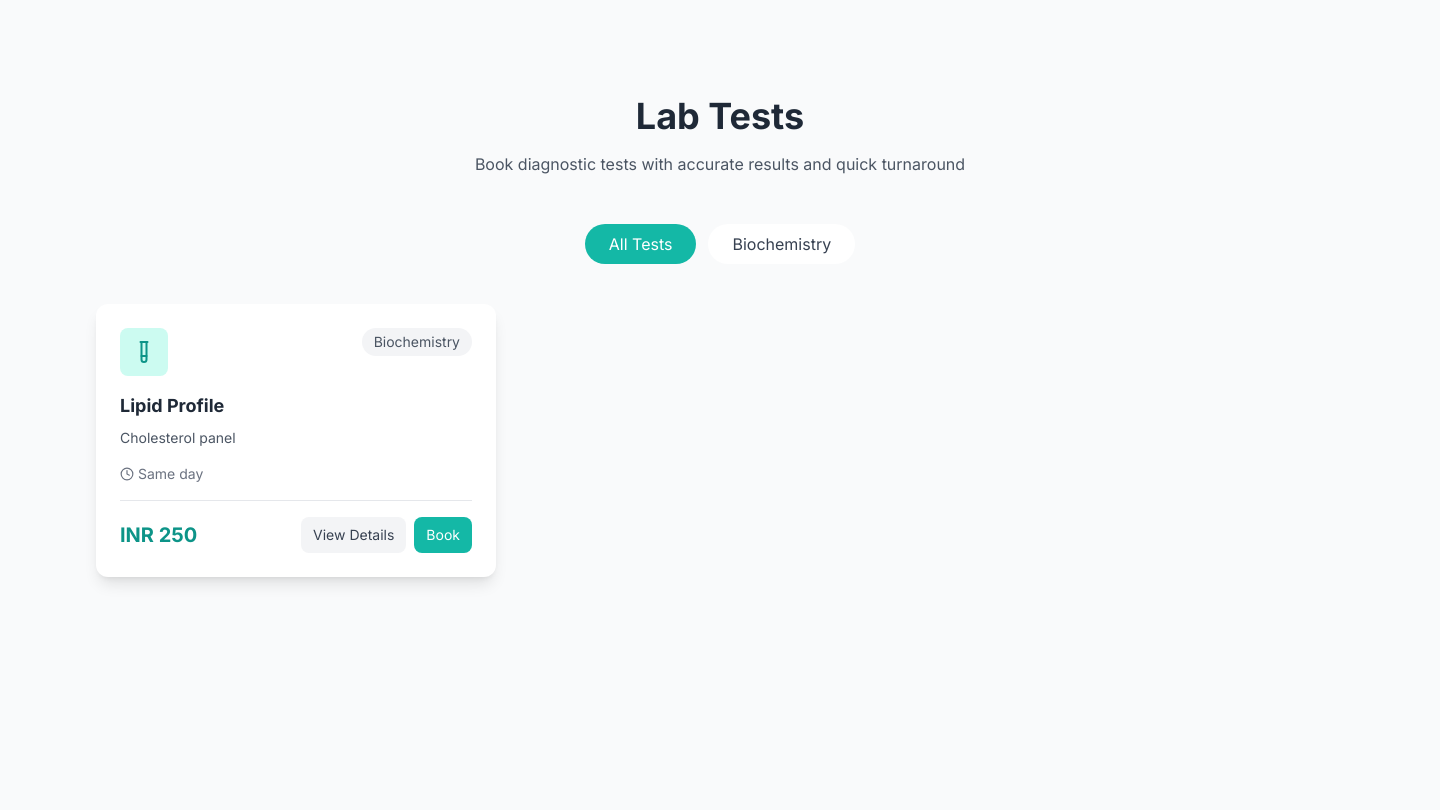
Test case: Additional pages regressions › lab tests modal shows test includes and price breakup
Expected: the heading "Lipid Profile" is shown, [120, 395, 224, 416]
Click the button "View Details" at (354, 535), box [301, 517, 406, 553]
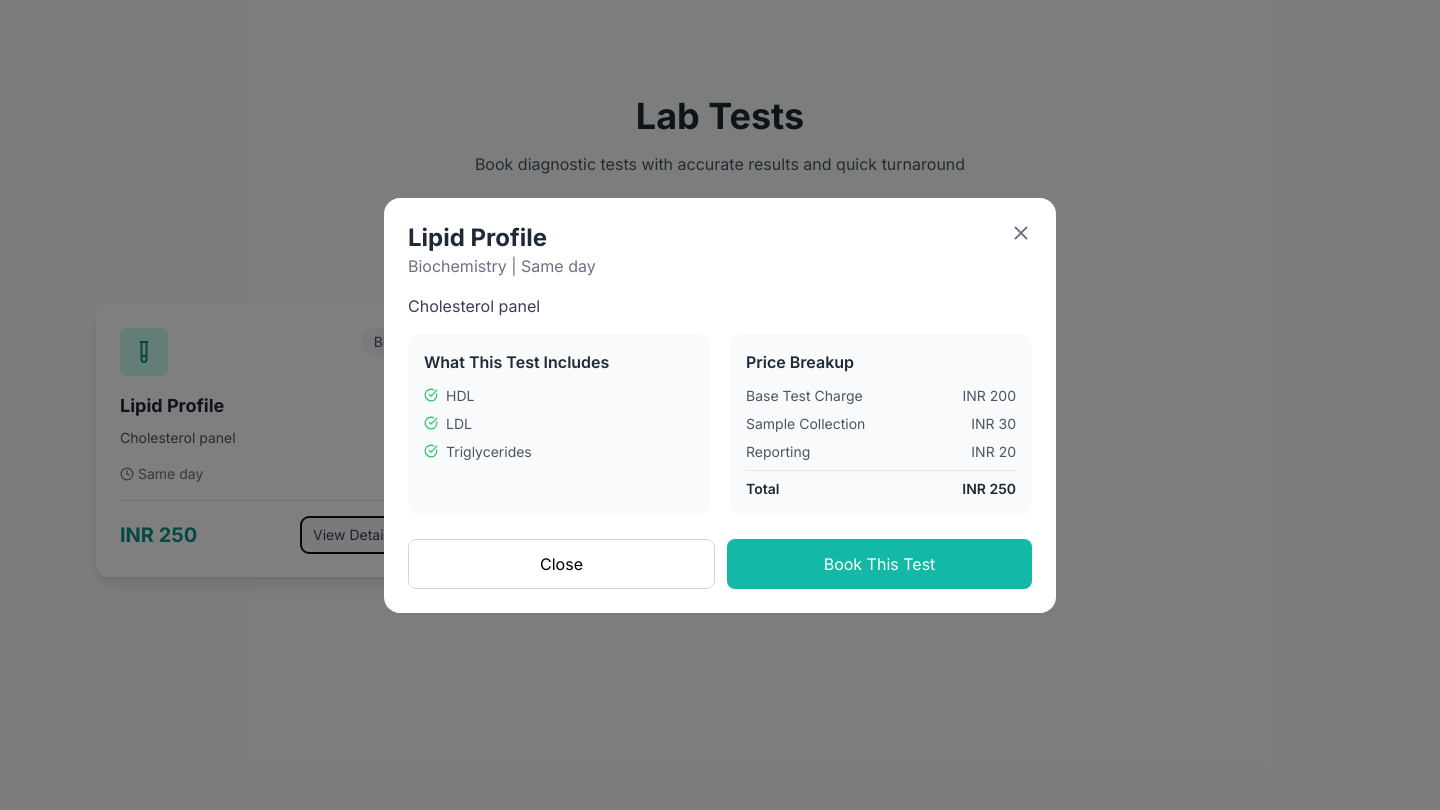
Expected: the heading "What This Test Includes" is shown, [424, 352, 609, 372]
Expected: the text "HDL" is shown, [446, 386, 474, 406]
Expected: the text "Base Test Charge" is shown, [746, 386, 863, 406]
